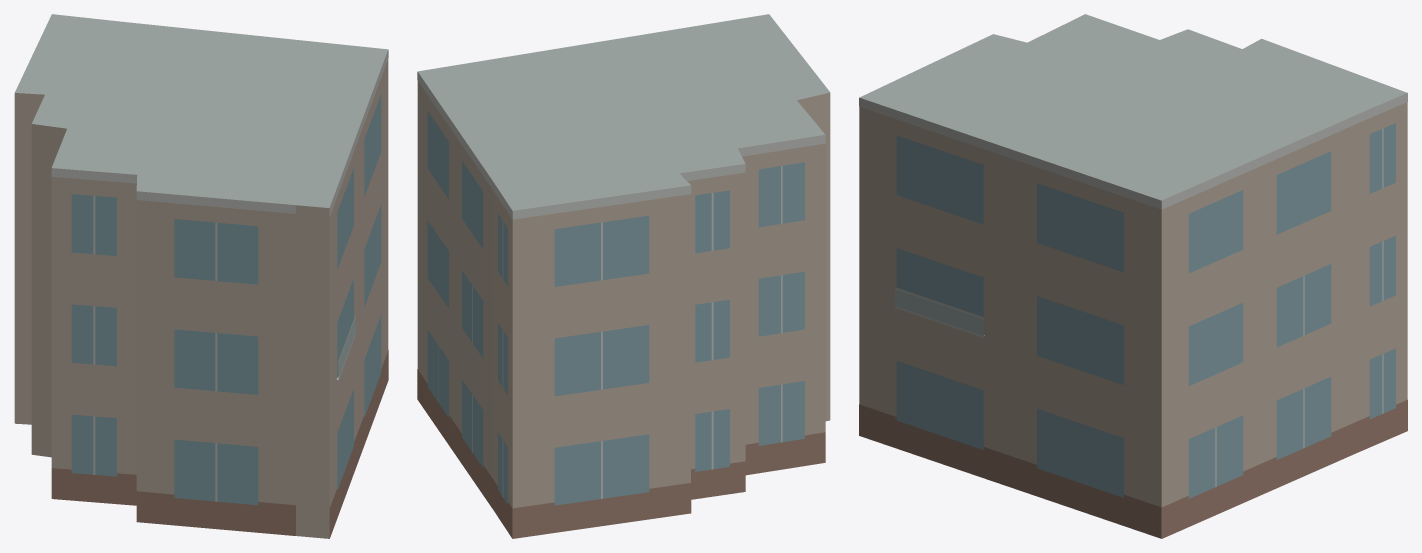
The model's file is survey-upis-32499020.glb.
3 renders of one model, left to right at view 1: azimuth 30°, elevation 25°; view 2: azimuth 150°, elevation 25°; view 3: azimuth 270°, elevation 25°, orthographic. The views are drawn at different scales.
Parts seen in each view (by area): view 1: survey-upis-32499020.tmp; view 2: survey-upis-32499020.tmp; view 3: survey-upis-32499020.tmp.
Boxes of the visible parts, x1=… form: survey-upis-32499020.tmp: x1=14, y1=14, x2=388, y2=538; survey-upis-32499020.tmp: x1=417, y1=14, x2=830, y2=538; survey-upis-32499020.tmp: x1=859, y1=14, x2=1407, y2=538.
Size of the model in its own units: 10.84 by 9.15 by 13.46.
